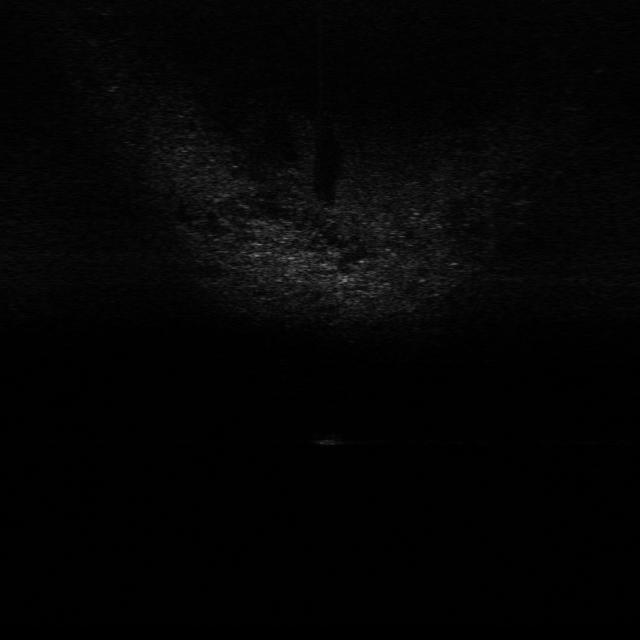cube: (306, 430, 343, 448)
